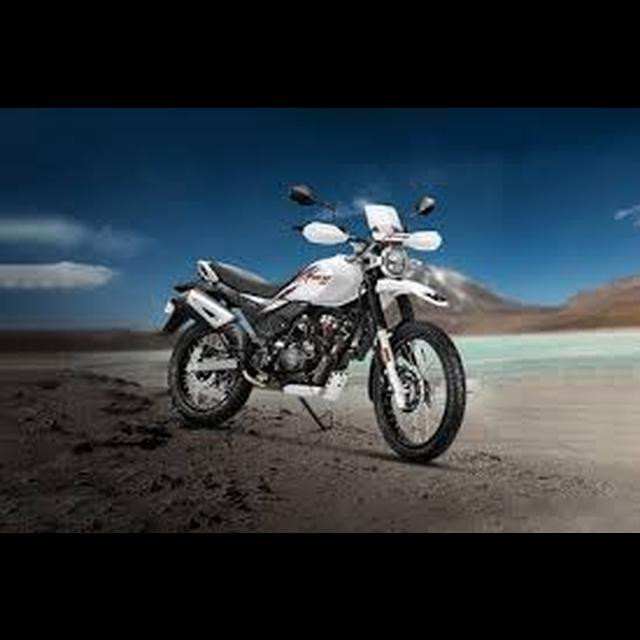motorcycle: (157, 175, 472, 467)
